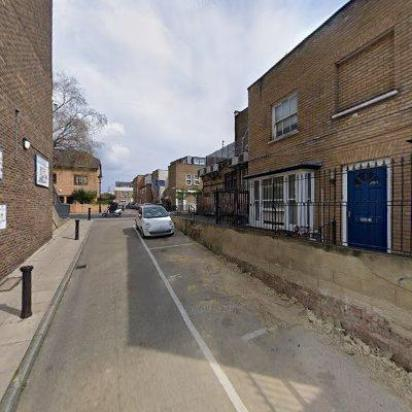moving-motorcycle: (100, 200, 123, 219)
stationary-car-onstreet: (135, 204, 175, 238)
